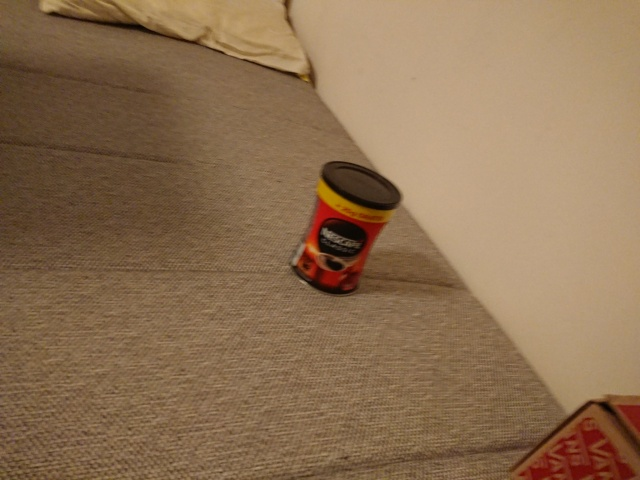Nescafe Classic 225g: (285, 158, 405, 301)
